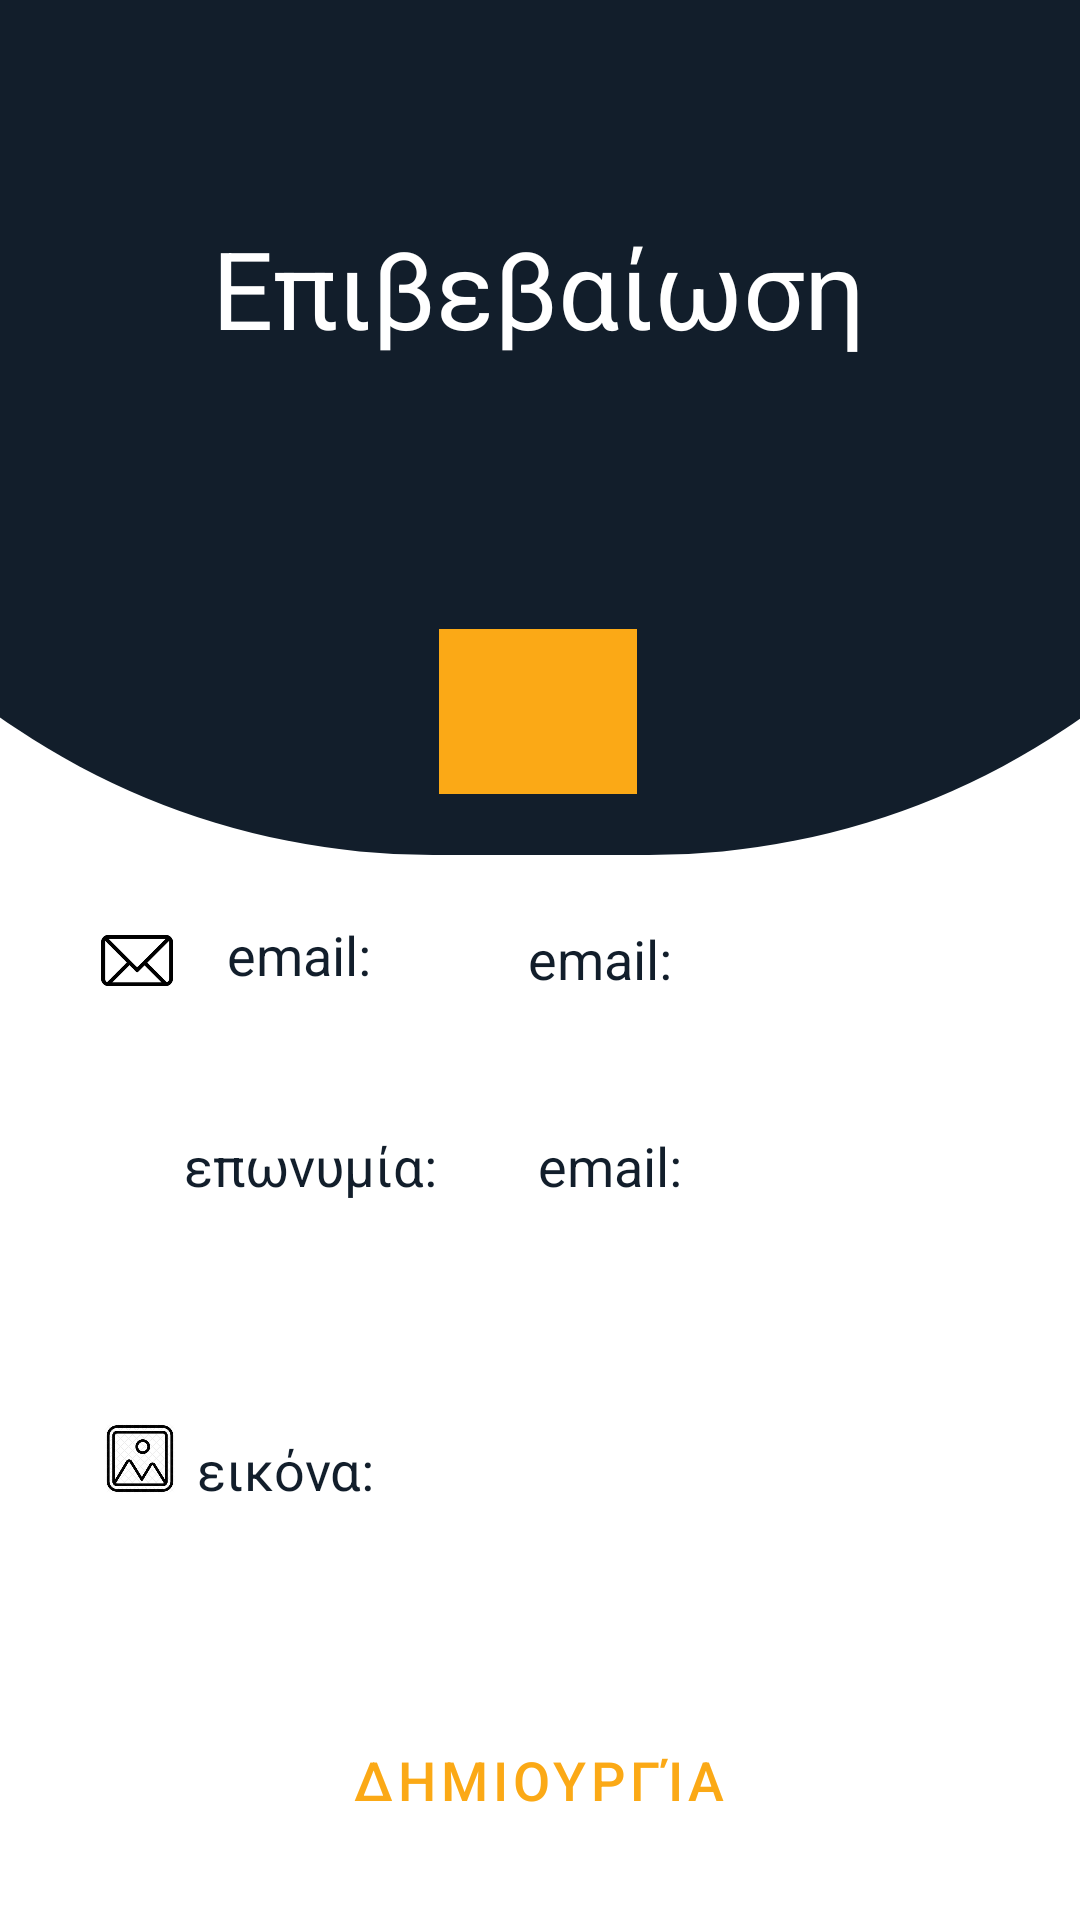

Screen size 1080px×1920px. Icon name, then its center in pixels as (x,y):
imageicon: (140,1458)
